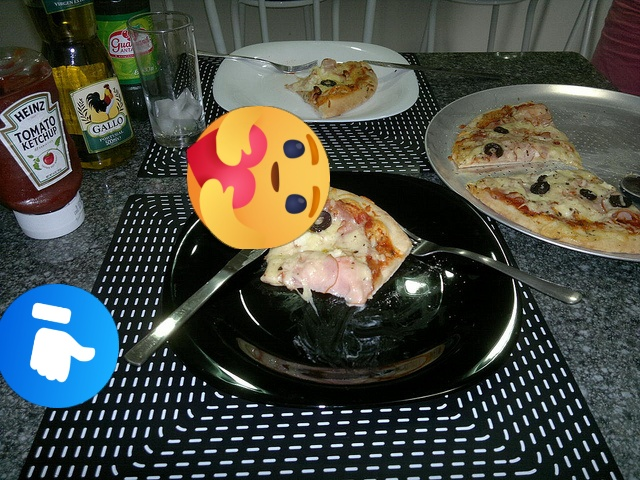care: (187, 106, 330, 249)
like: (0, 284, 119, 408)
